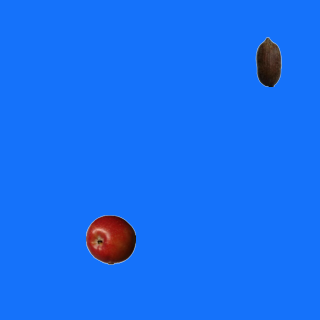Apple Braeburn: (85, 214, 135, 264)
Nut Pecan: (243, 36, 293, 86)
